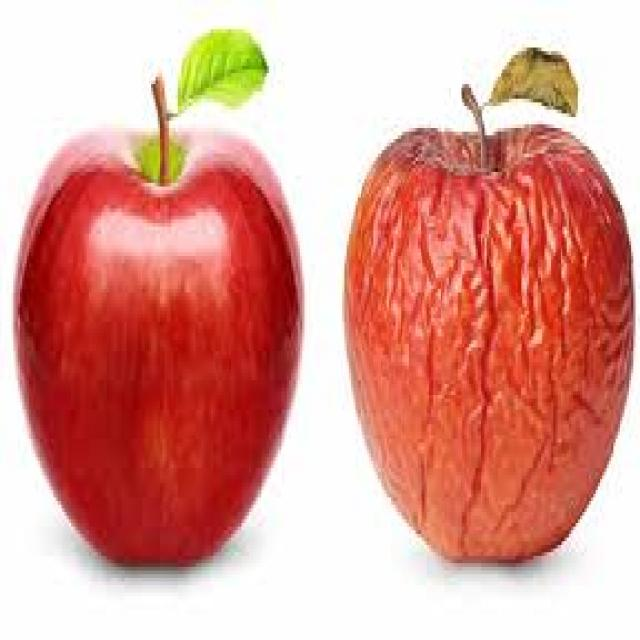organic waste: (11, 124, 300, 567), (345, 121, 631, 563), (176, 26, 266, 106), (489, 44, 575, 113)
